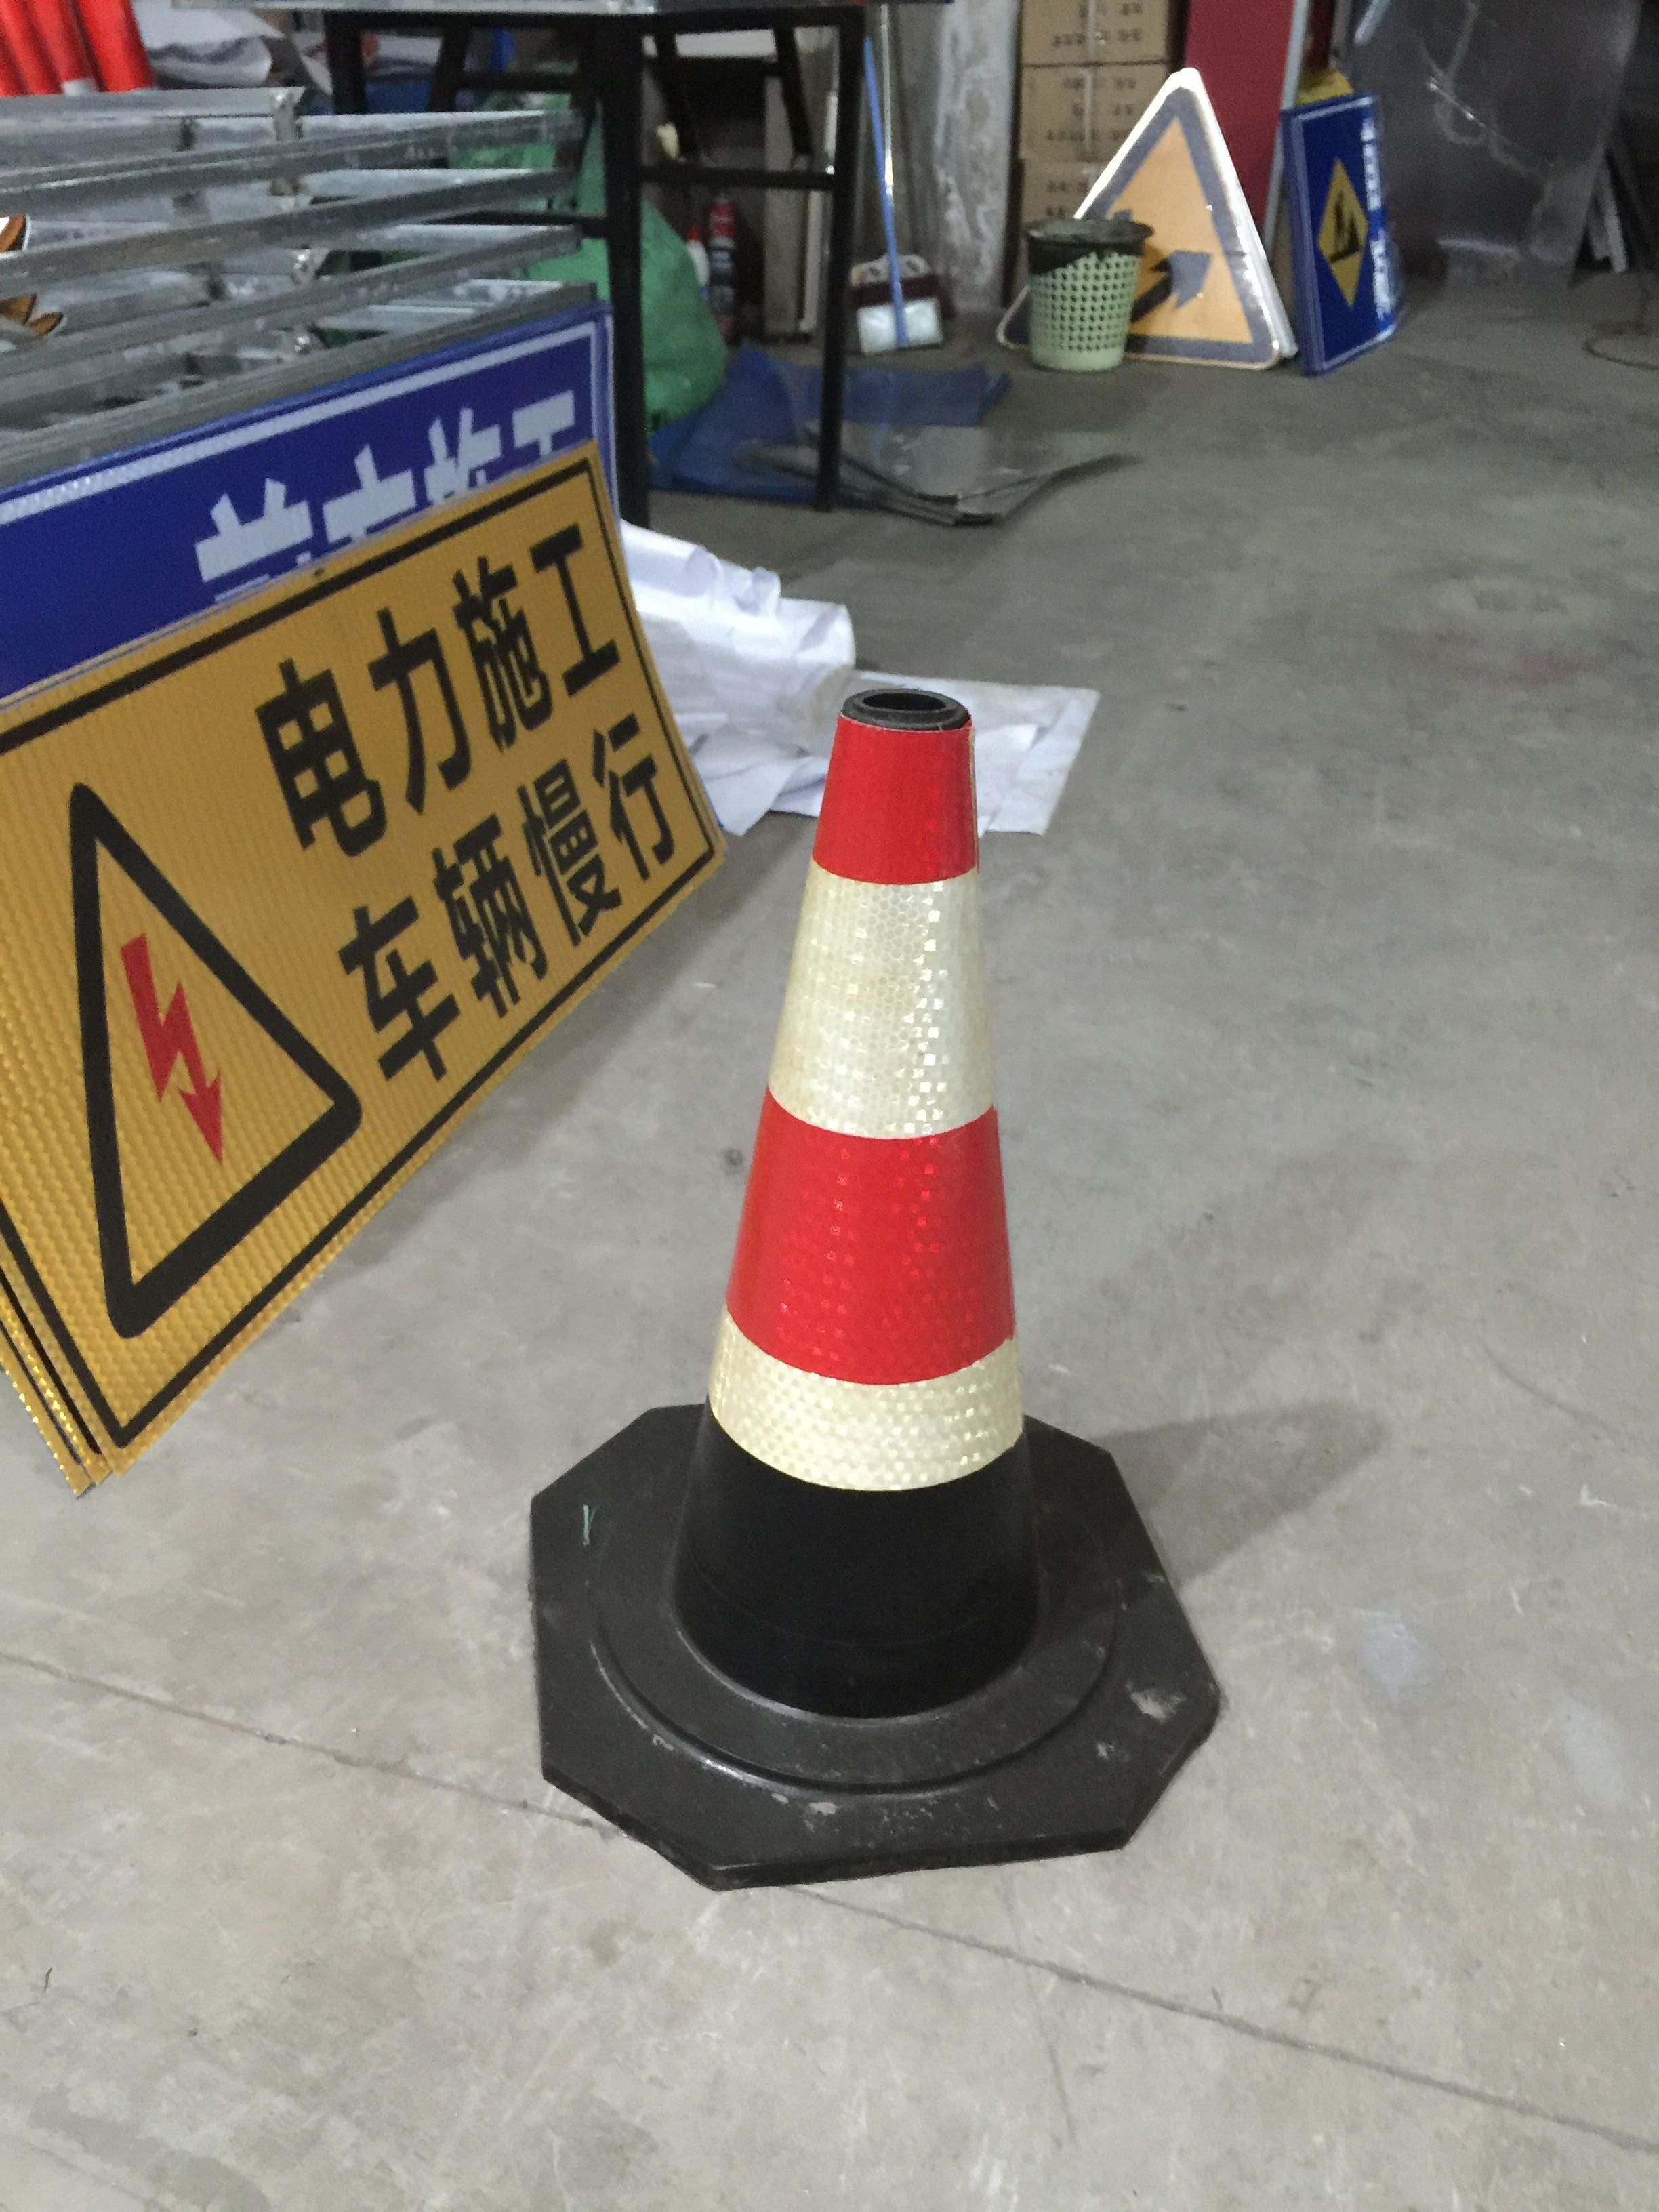sign: (533, 644, 1274, 1900)
